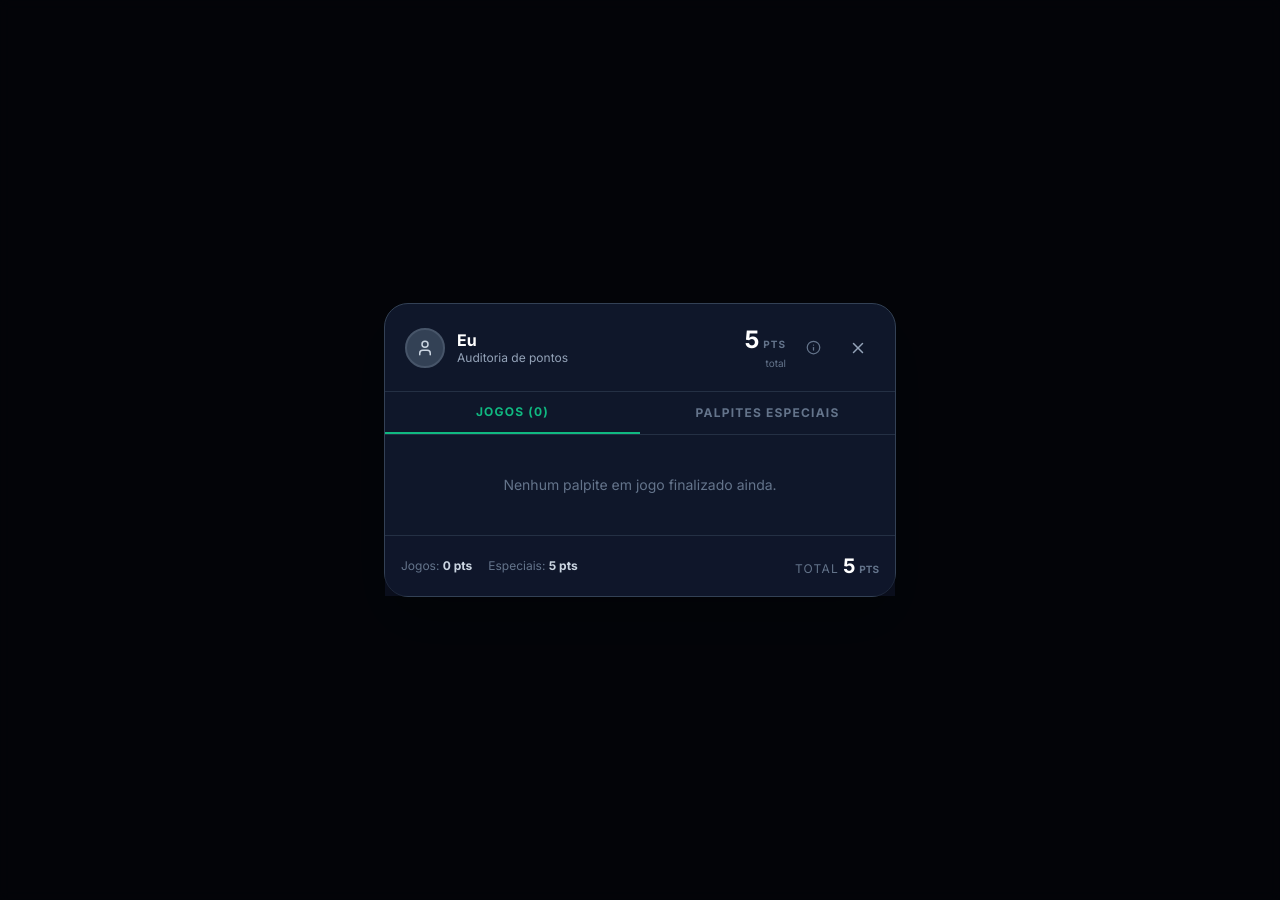
Test: UserAuditModal - Regulamento 2 special predictions accordion › expands a group and shows child items when clicked
Click the button "Palpites Especiais" at point(768, 413), box [640,392,895,434]
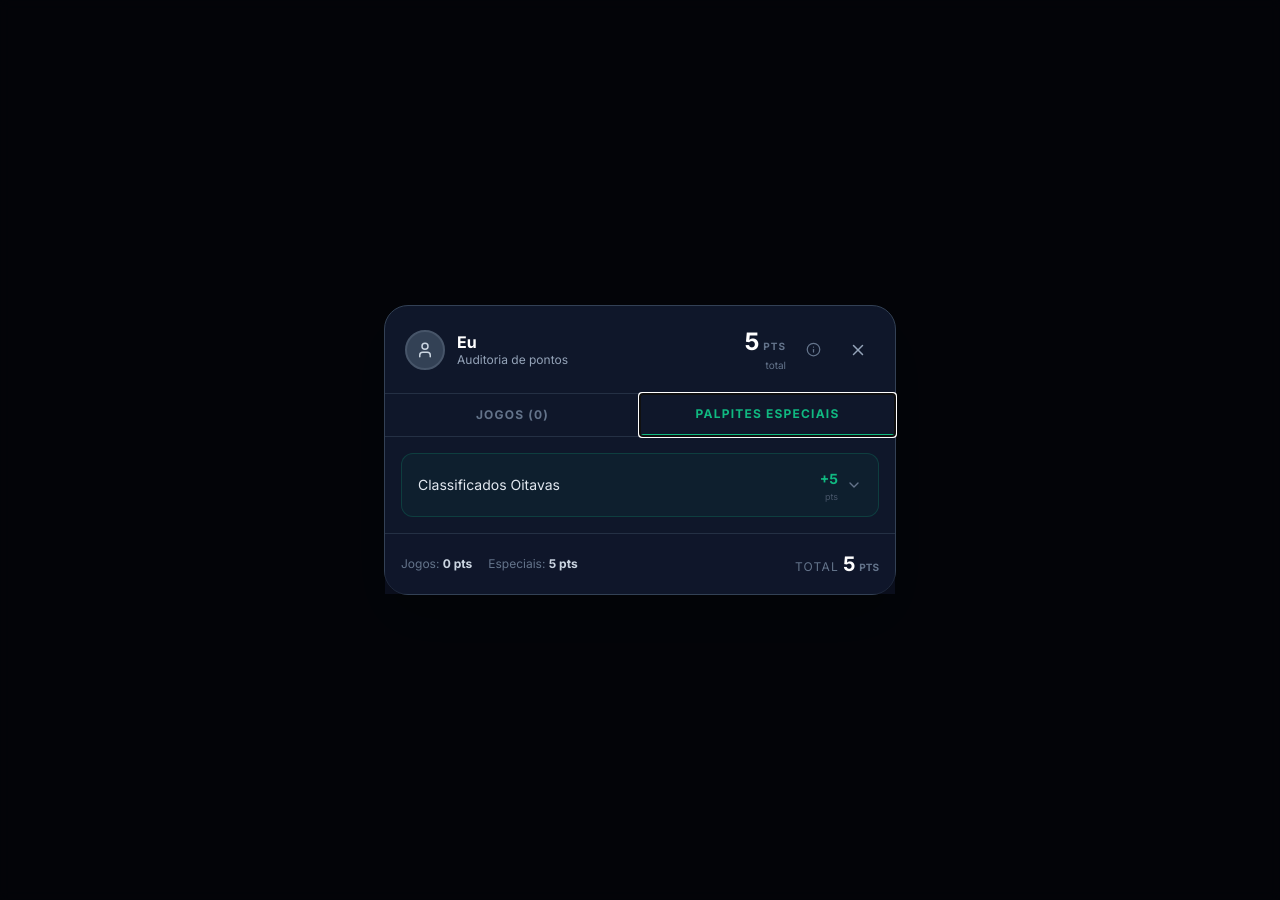
Click the button with test id "special-group-classifications-Oitavas" at point(489, 484), box [402,454,878,516]
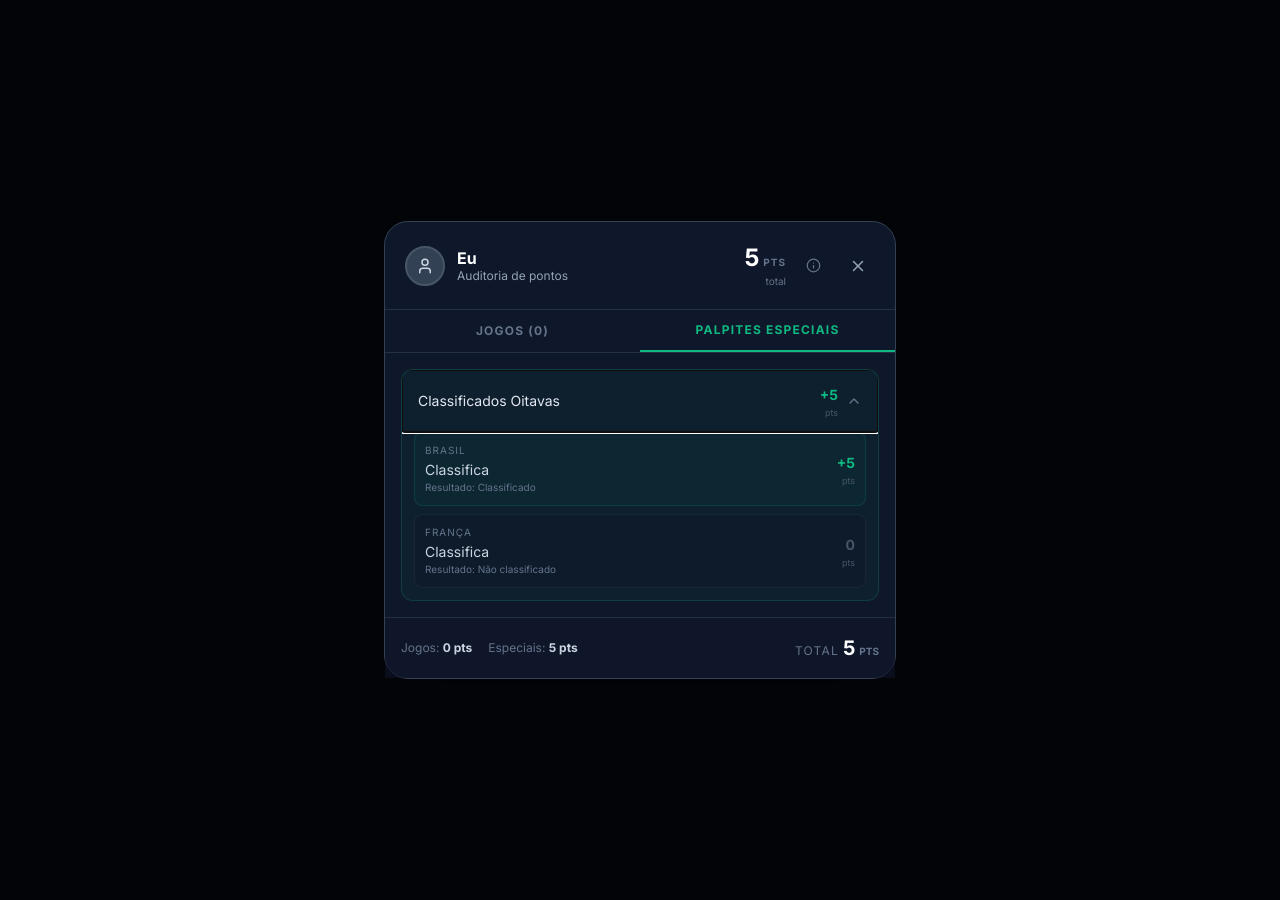
Check: the text "Brasil" is shown, box [425,444,466,456]
Check: the text "Resultado: Classificado" is shown, box [425,481,536,493]
Check: the text "França" is shown, box [425,526,472,538]
